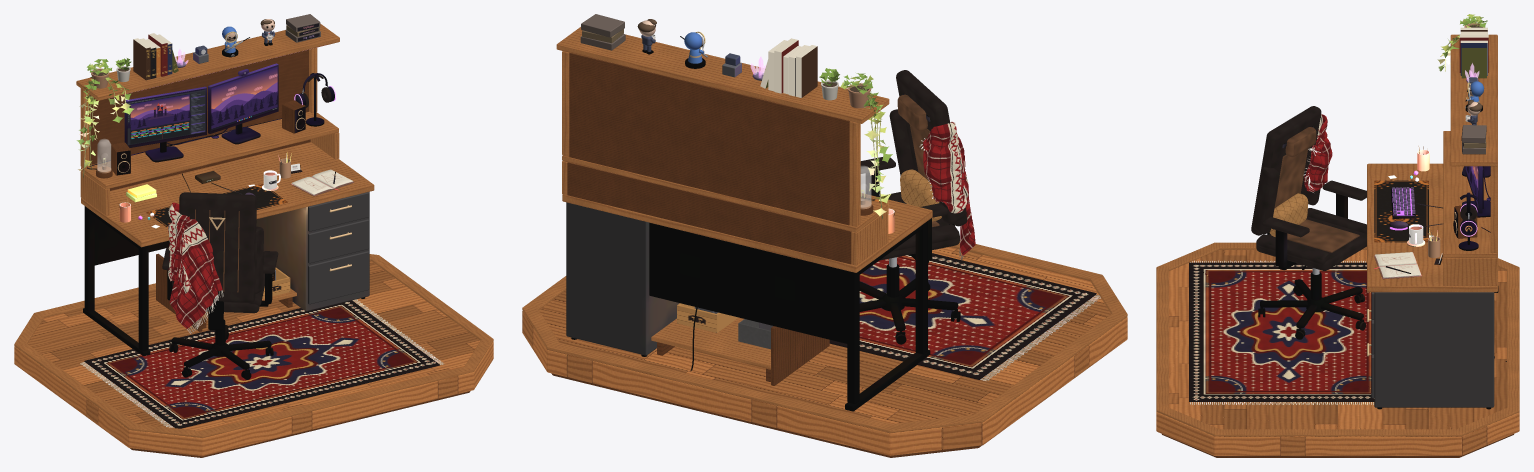
The model's file is studio_desk_webp.glb.
3 views of the same model, side by side, from view 1: azimuth 30°, elevation 25°; view 2: azimuth 150°, elevation 25°; view 3: azimuth 270°, elevation 25° (orthographic). The views are drawn at different scales.
Visible parts, largest first — view 1: STATIC_wood, BASE_Platform, BASE_Rug, STATIC_wood_dark, STATIC_metal_black, STATIC_leather, CHAIR_Blanket, DESK_Cabinet_Body, MON_L_Screen, MON_R_Screen, STATIC_plastic_black, DESK_Drawer_3 (+7 smaller); view 2: STATIC_wood_dark, BASE_Platform, STATIC_wood, STATIC_metal_black, BASE_Rug, DESK_Cabinet_Body, STATIC_leather, CHAIR_Blanket, STATIC_leather_brown, CHAIR_LumbarPillow, NAV_GamesCrate_Body, STATIC_leaf (+6 smaller); view 3: BASE_Rug, STATIC_wood, BASE_Platform, DESK_Cabinet_Body, STATIC_leather, STATIC_metal_black, STATIC_leather_brown, PROP_DeskMat, CHAIR_Blanket, STATIC_plastic_black, STATIC_wood_dark, CHAIR_LumbarPillow (+6 smaller).
Boxes of the visible parts, x1,y1,x2,y2 form: STATIC_wood: [14, 23, 493, 437]; BASE_Platform: [14, 261, 493, 456]; BASE_Rug: [84, 300, 439, 428]; STATIC_wood_dark: [89, 49, 470, 457]; STATIC_metal_black: [83, 123, 365, 369]; STATIC_leather: [162, 192, 278, 313]; CHAIR_Blanket: [168, 202, 222, 328]; DESK_Cabinet_Body: [256, 191, 369, 311]; MON_L_Screen: [127, 89, 205, 145]; MON_R_Screen: [211, 66, 277, 130]; STATIC_plastic_black: [117, 63, 305, 379]; DESK_Drawer_3: [308, 251, 369, 304]; STATIC_wood_dark: [551, 53, 981, 457]; BASE_Platform: [522, 247, 1127, 455]; STATIC_wood: [522, 27, 1127, 432]; STATIC_metal_black: [571, 170, 958, 411]; BASE_Rug: [829, 253, 1096, 379]; DESK_Cabinet_Body: [566, 202, 679, 355]; STATIC_leather: [860, 70, 967, 260]; CHAIR_Blanket: [923, 121, 975, 255]; STATIC_leather_brown: [897, 94, 939, 226]; CHAIR_LumbarPillow: [900, 169, 941, 221]; NAV_GamesCrate_Body: [677, 303, 738, 332]; STATIC_leaf: [819, 68, 892, 192]; BASE_Rug: [1189, 262, 1374, 401]; STATIC_wood: [1156, 34, 1519, 436]; BASE_Platform: [1156, 250, 1519, 455]; DESK_Cabinet_Body: [1374, 292, 1494, 407]; STATIC_leather: [1251, 106, 1366, 270]; STATIC_metal_black: [1260, 166, 1498, 409]; STATIC_leather_brown: [1274, 127, 1359, 252]; PROP_DeskMat: [1374, 180, 1428, 242]; CHAIR_Blanket: [1303, 114, 1332, 191]; STATIC_plastic_black: [1258, 126, 1490, 339]; STATIC_wood_dark: [1162, 146, 1513, 457]; CHAIR_LumbarPillow: [1269, 193, 1308, 236].
Bounding box in the file's own units: 2.5 × 1.89 × 2.
92 materials, 36 textured.
